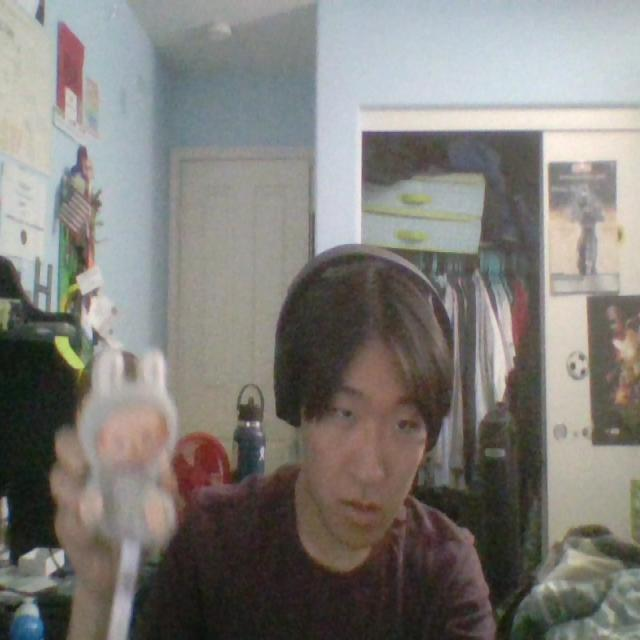labubu: (80, 336, 177, 545)
